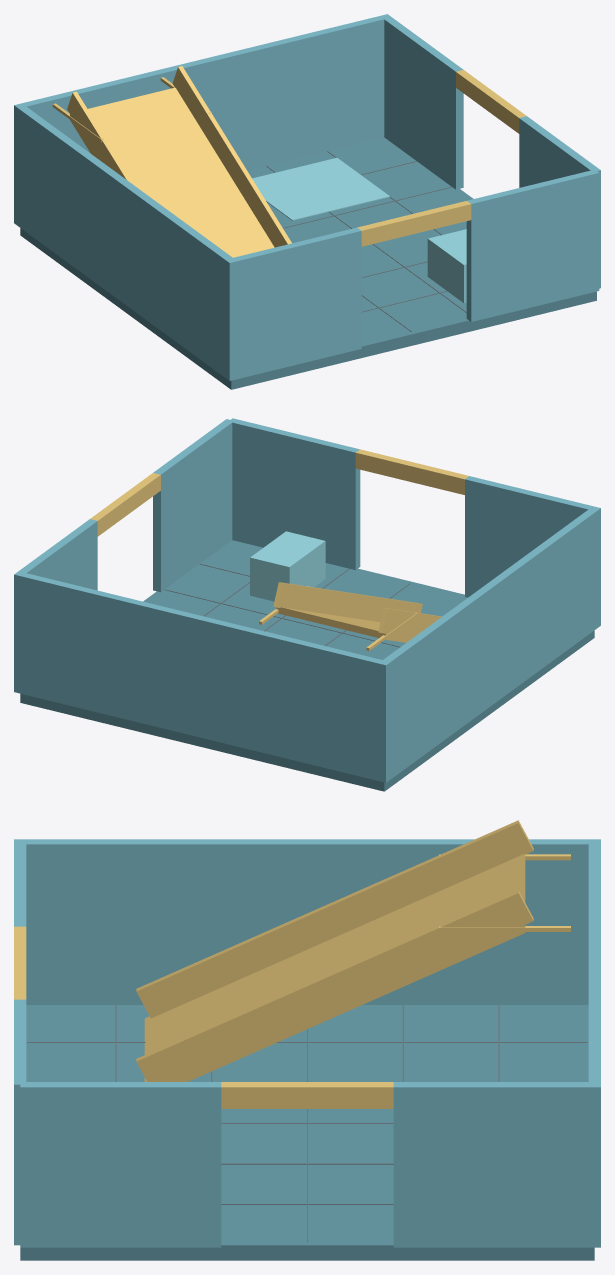
File: Quota.fbx
3 renders of one model, top to bottom at view 1: azimuth 30°, elevation 25°; view 2: azimuth 150°, elevation 25°; view 3: azimuth 270°, elevation 25°, orthographic. The views are drawn at different scales.
Parts seen in each view (by area): view 1: Quota__west_Wall, Quota__north_Wall, Quota__Floor, Quota__south_Wall_1, Quota__south_Wall_End, Quota__Upper_Ramp, Quota__east_Wall_1, Quota__Extraction_Marking, Quota__Ramp_Rail_R_01, Quota__east_Wall_End, Quota__south_Lintel_1, Quota__Cart_Clearance_Preview (+2 smaller); view 2: Quota__north_Wall, Quota__west_Wall, Quota__Floor, Quota__south_Wall_1, Quota__east_Wall_End, Quota__south_Wall_End, Quota__Cart_Clearance_Preview, Quota__Ramp_Rail_R_01, Quota__east_Wall_1, Quota__south_Lintel_1, Quota__east_Lintel_1, Quota__Upper_Ramp (+1 smaller); view 3: Quota__Floor, Quota__west_Wall, Quota__east_Wall_End, Quota__east_Wall_1, Quota__Upper_Ramp, Quota__Ramp_Rail_R_01, Quota__Ramp_Rail_L_01, Quota__east_Lintel_1, Quota__north_Wall, Quota__south_Wall_1, Quota__south_Wall_End, Quota__south_Lintel_1 (+1 smaller).
Boxes of the visible parts, left/top/right/bottom form: Quota__west_Wall: left=14, top=103, right=237, bottom=380; Quota__north_Wall: left=22, top=14, right=390, bottom=170; Quota__Floor: left=20, top=137, right=596, bottom=389; Quota__south_Wall_1: left=466, top=170, right=599, bottom=321; Quota__south_Wall_End: left=230, top=227, right=361, bottom=379; Quota__Upper_Ramp: left=70, top=87, right=274, bottom=257; Quota__east_Wall_1: left=382, top=16, right=463, bottom=189; Quota__Extraction_Marking: left=252, top=157, right=389, bottom=220; Quota__Ramp_Rail_R_01: left=172, top=66, right=291, bottom=247; Quota__east_Wall_End: left=519, top=116, right=600, bottom=288; Quota__south_Lintel_1: left=357, top=201, right=471, bottom=246; Quota__Cart_Clearance_Preview: left=427, top=229, right=466, bottom=302; Quota__north_Wall: left=14, top=573, right=389, bottom=781; Quota__west_Wall: left=378, top=506, right=600, bottom=782; Quota__Floor: left=20, top=540, right=594, bottom=791; Quota__south_Wall_1: left=228, top=418, right=360, bottom=570; Quota__east_Wall_End: left=153, top=419, right=233, bottom=592; Quota__south_Wall_End: left=465, top=476, right=595, bottom=597; Quota__Cart_Clearance_Preview: left=250, top=531, right=325, bottom=601; Quota__Ramp_Rail_R_01: left=273, top=582, right=422, bottom=622; Quota__east_Wall_1: left=16, top=519, right=97, bottom=590; Quota__south_Lintel_1: left=355, top=449, right=468, bottom=494; Quota__east_Lintel_1: left=90, top=473, right=160, bottom=536; Quota__Upper_Ramp: left=276, top=607, right=412, bottom=642; Quota__Floor: left=20, top=1005, right=594, bottom=1260; Quota__west_Wall: left=14, top=839, right=600, bottom=1004; Quota__east_Wall_End: left=20, top=1082, right=221, bottom=1247; Quota__east_Wall_1: left=393, top=1082, right=594, bottom=1247; Quota__Upper_Ramp: left=144, top=854, right=525, bottom=1081; Quota__Ramp_Rail_R_01: left=136, top=890, right=533, bottom=1081; Quota__Ramp_Rail_L_01: left=136, top=820, right=533, bottom=1018; Quota__east_Lintel_1: left=221, top=1082, right=393, bottom=1108; Quota__north_Wall: left=588, top=839, right=600, bottom=1247; Quota__south_Wall_1: left=14, top=999, right=26, bottom=1245; Quota__south_Wall_End: left=14, top=841, right=26, bottom=926; Quota__south_Lintel_1: left=14, top=926, right=26, bottom=999.
Bounding box in the file's own units: 1226 × 493 × 1226.
